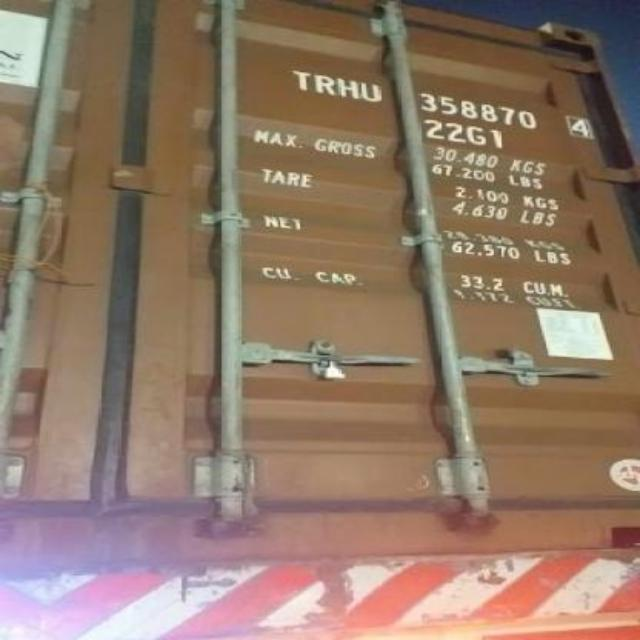0: (518, 104, 538, 132)
3: (410, 85, 438, 111)
4: (562, 110, 590, 140)
5: (438, 90, 458, 120)
7: (496, 97, 514, 127)
8: (478, 92, 498, 128), (460, 91, 476, 121)
H: (332, 66, 356, 98)
R: (308, 64, 334, 100)
T: (290, 62, 314, 94)
U: (356, 77, 384, 106)
